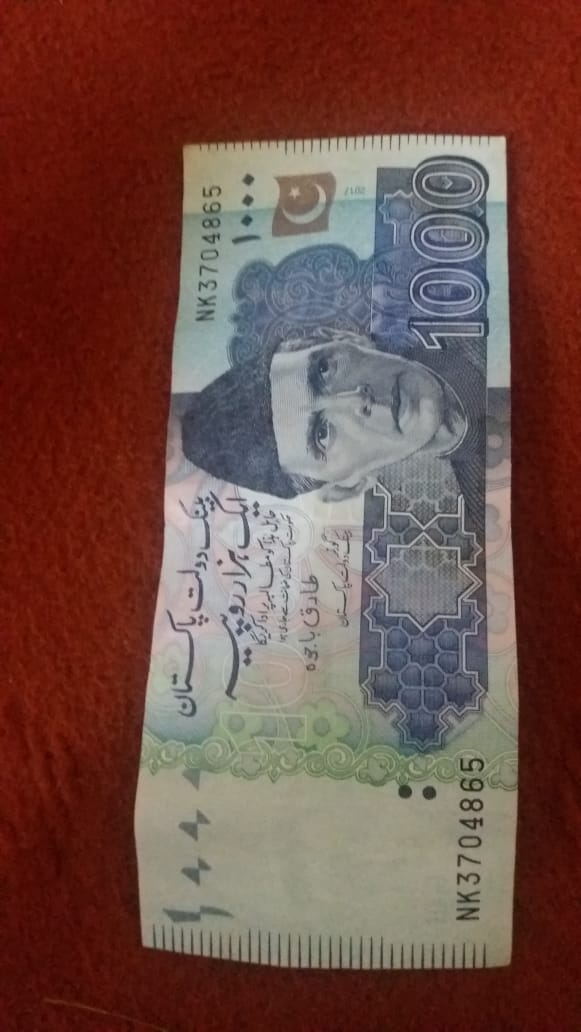1000 rupee: (139, 121, 510, 984)
